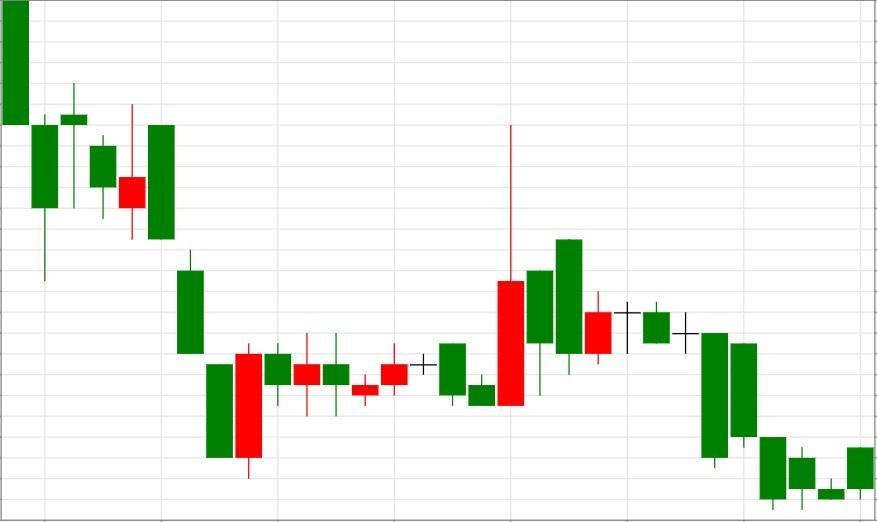bullish_engulfing_rise: (147, 124, 263, 480), (410, 124, 525, 406)
evening_star_fall: (467, 124, 670, 407)
